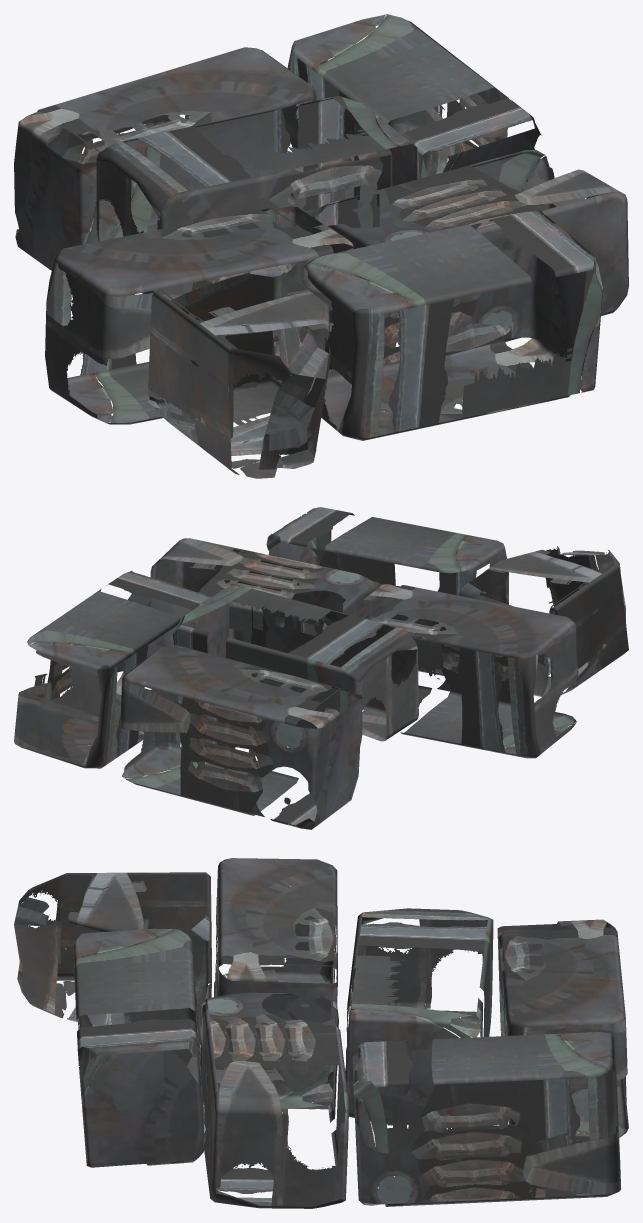
The picture shows the model from 3 angles, top to bottom: view 1: azimuth 30°, elevation 25°; view 2: azimuth 150°, elevation 25°; view 3: azimuth 270°, elevation 25°; orthographic projection. The views are drawn at different scales.
Visible parts, largest first — view 1: SM_Temple_Candelabra_01_LOD0; view 2: SM_Temple_Candelabra_01_LOD0; view 3: SM_Temple_Candelabra_01_LOD0.
Boxes of the visible parts, x1,y1,x2,y2 form: SM_Temple_Candelabra_01_LOD0: (14, 14, 628, 478); SM_Temple_Candelabra_01_LOD0: (14, 507, 628, 829); SM_Temple_Candelabra_01_LOD0: (14, 858, 628, 1208).
Bounding box in the file's own units: 2.51 × 0.7221 × 2.82.
